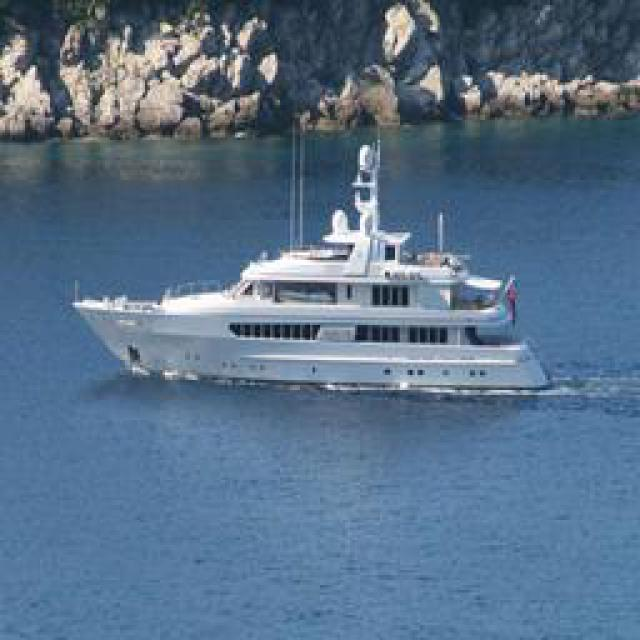Ship: (74, 130, 547, 390)
